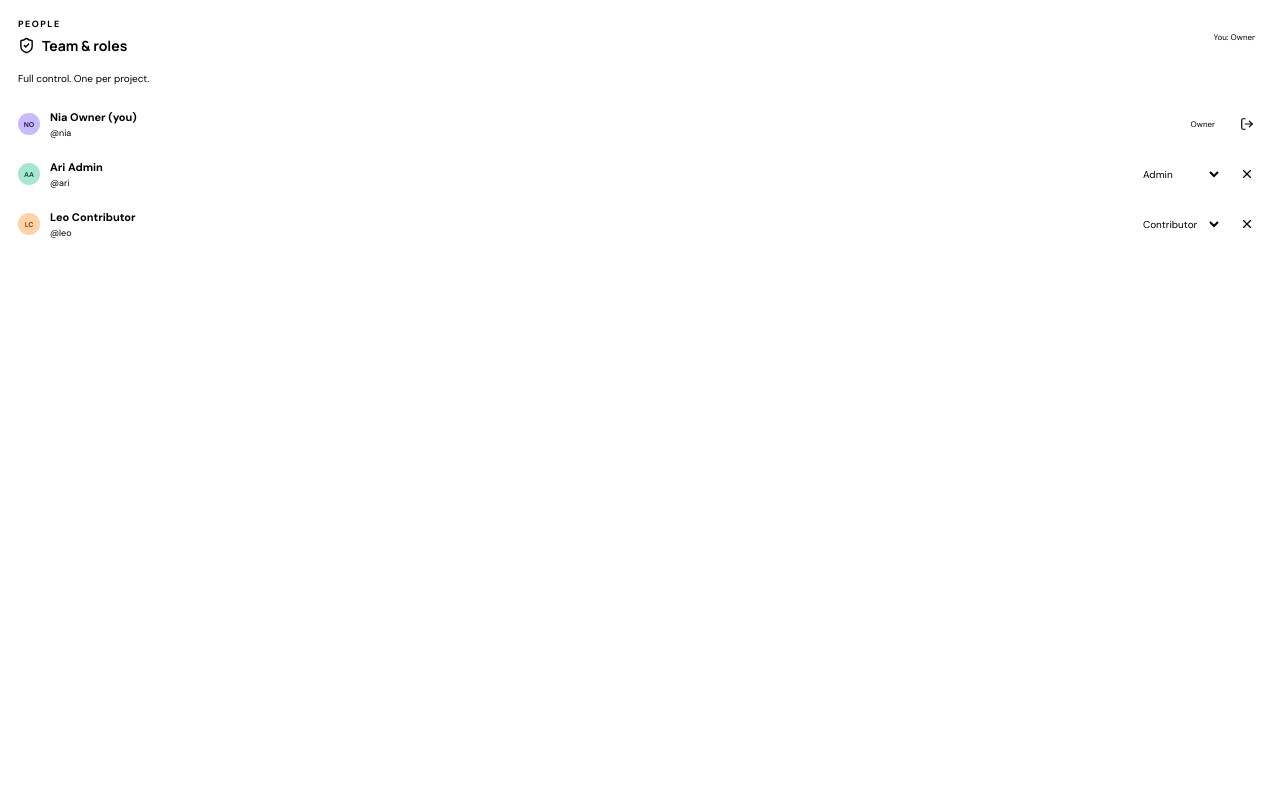
it: Remove a member (US-13) › keeps the dialog open and shows the server error if removing fails
Click the button named "Remove Leo Contributor": (1247, 224) [1232, 209, 1262, 239]
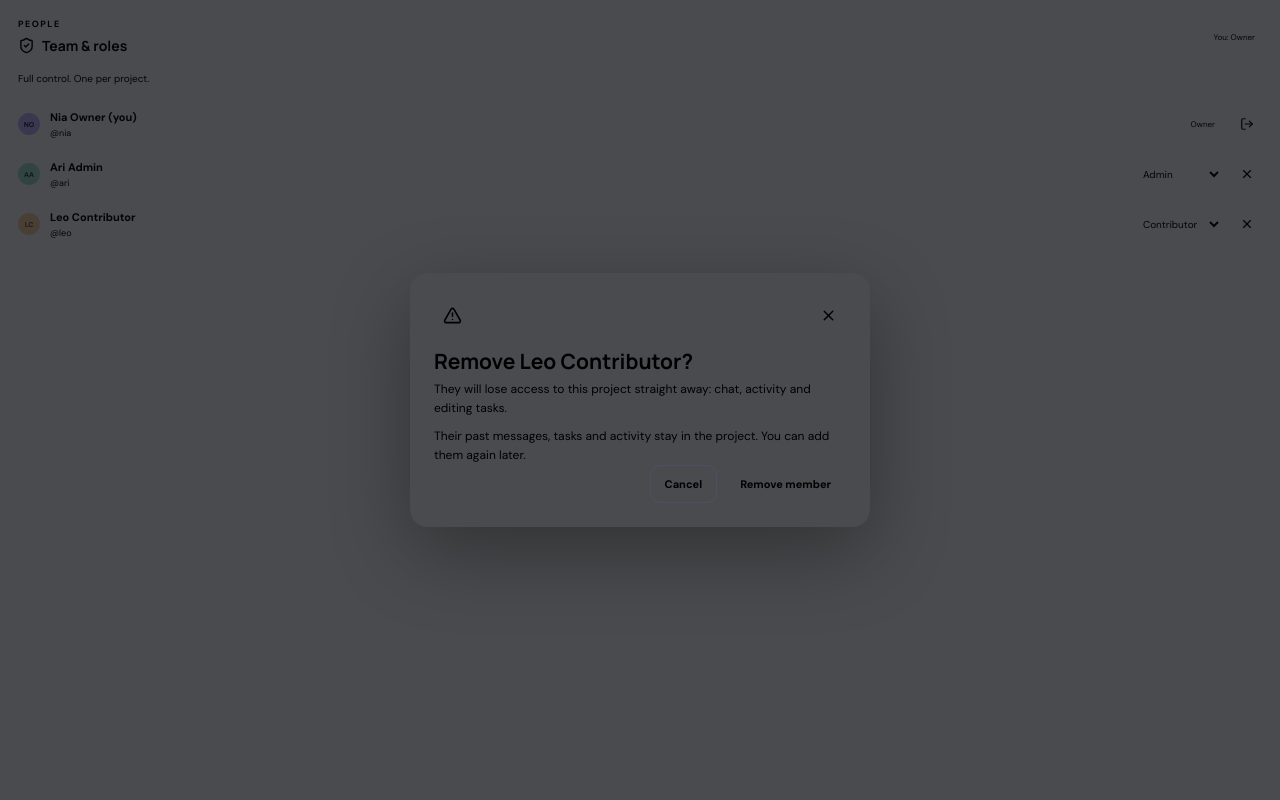
Click the button "Remove member": (786, 484) [725, 465, 846, 503]
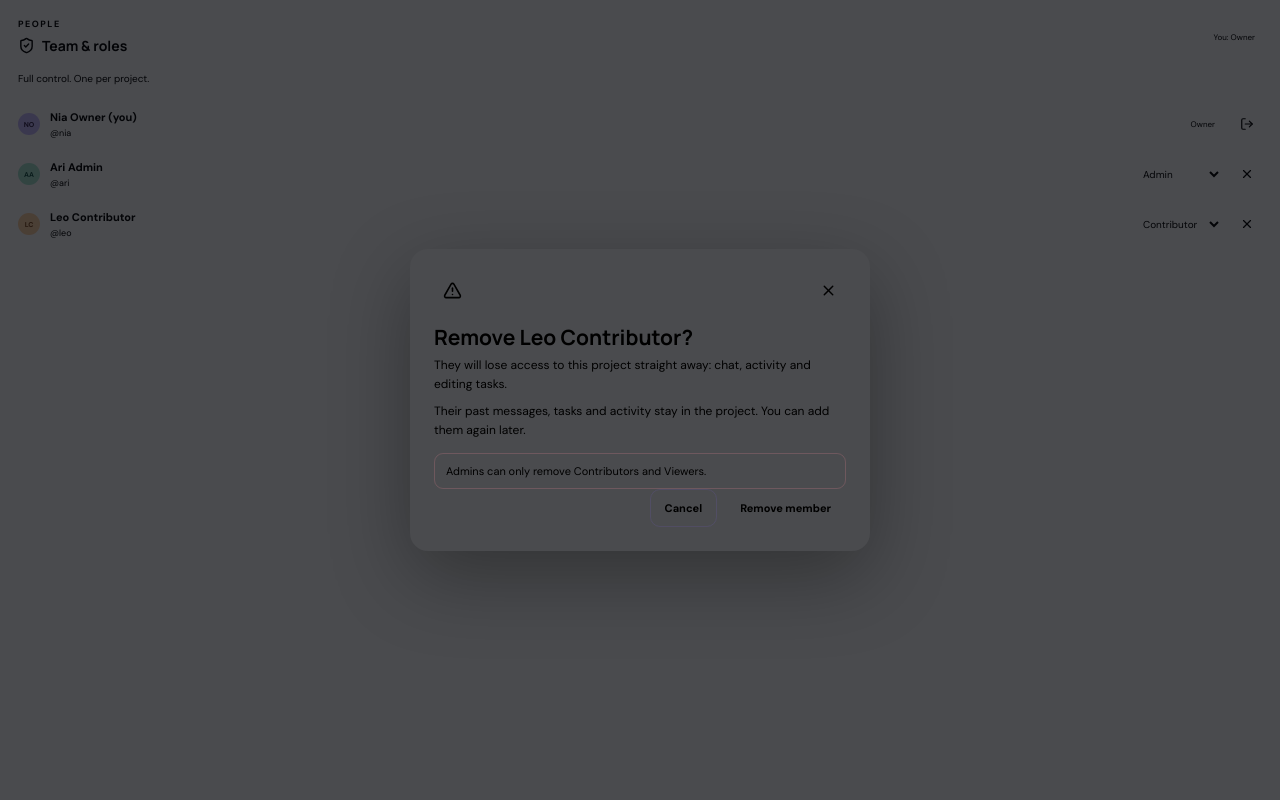
Expected: the text "Leo Contributor" is shown, [50, 210, 136, 224]
Now the message reads "Admins can only remove Contributors and Viewers.", box [446, 464, 706, 478]
